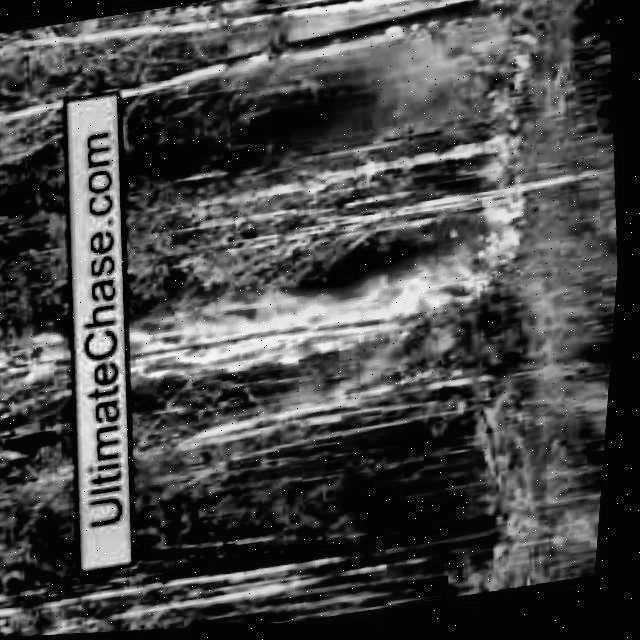Fire: (136, 277, 405, 380), (398, 185, 539, 330), (0, 330, 74, 388)
